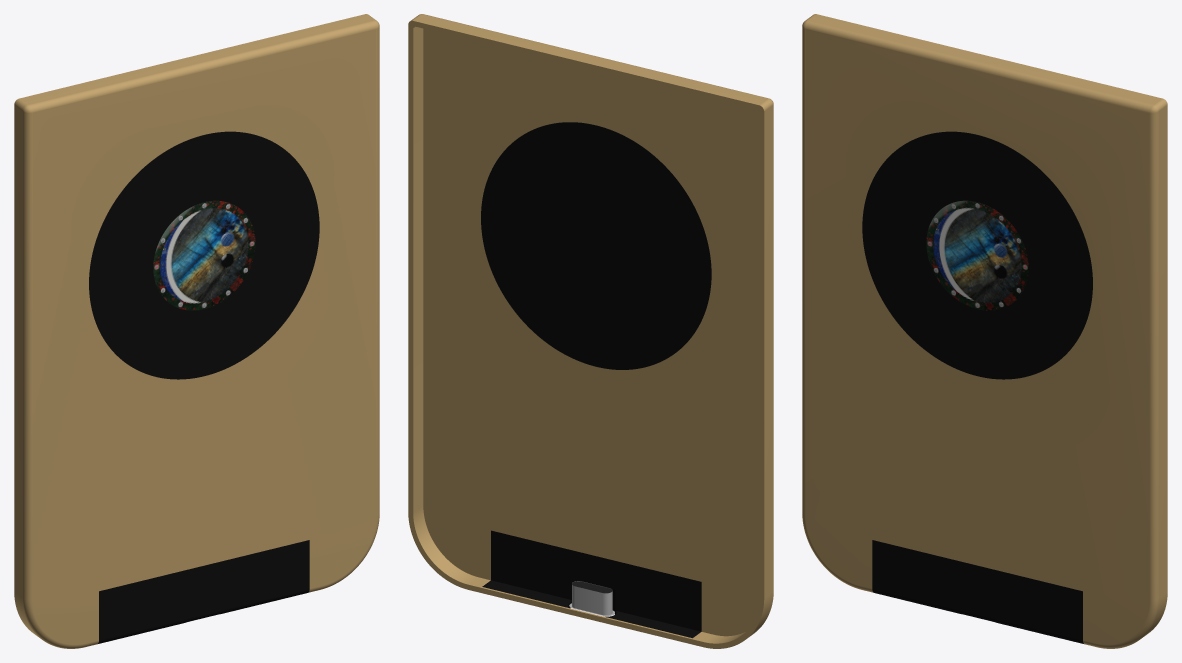
Rendered from gold-standard-shield.glb.
3 views of the same model, side by side, from view 1: azimuth 30°, elevation 25°; view 2: azimuth 150°, elevation 25°; view 3: azimuth 330°, elevation 25° (orthographic).
Visible parts, largest first — view 1: shield housing, shield window_inserts, inlay; view 2: shield housing, shield window_inserts, shield USB-C; view 3: shield housing, shield window_inserts, inlay.
Part boxes in pixels (bbox=[...]): shield housing: bbox=[14, 14, 379, 648]; shield window_inserts: bbox=[89, 131, 319, 643]; inlay: bbox=[153, 200, 255, 310]; shield housing: bbox=[408, 14, 773, 648]; shield window_inserts: bbox=[481, 122, 711, 638]; shield USB-C: bbox=[569, 581, 614, 616]; shield housing: bbox=[802, 14, 1167, 648]; shield window_inserts: bbox=[862, 131, 1092, 643]; inlay: bbox=[926, 200, 1028, 310].
Size of the model in its own units: 0.071 by 0.1059 by 0.00422.
5 materials, 1 textured.
